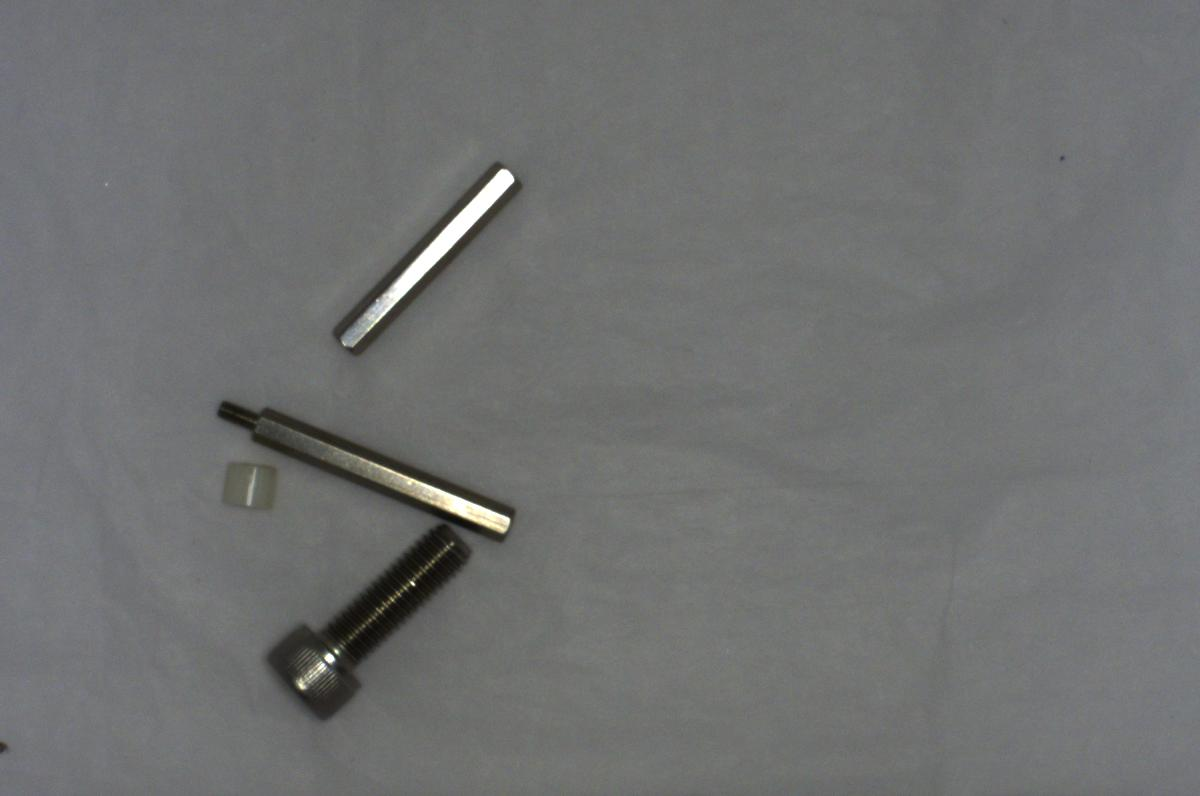Double hexagonal column: (330, 154, 526, 356)
Hexagon screw: (262, 522, 481, 727)
Hexagonal steel column: (204, 396, 519, 543)
Plastic cushion pillar: (212, 452, 278, 521)
